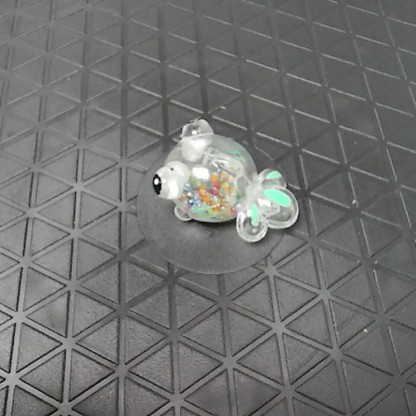whitefish: (144, 110, 304, 248)
